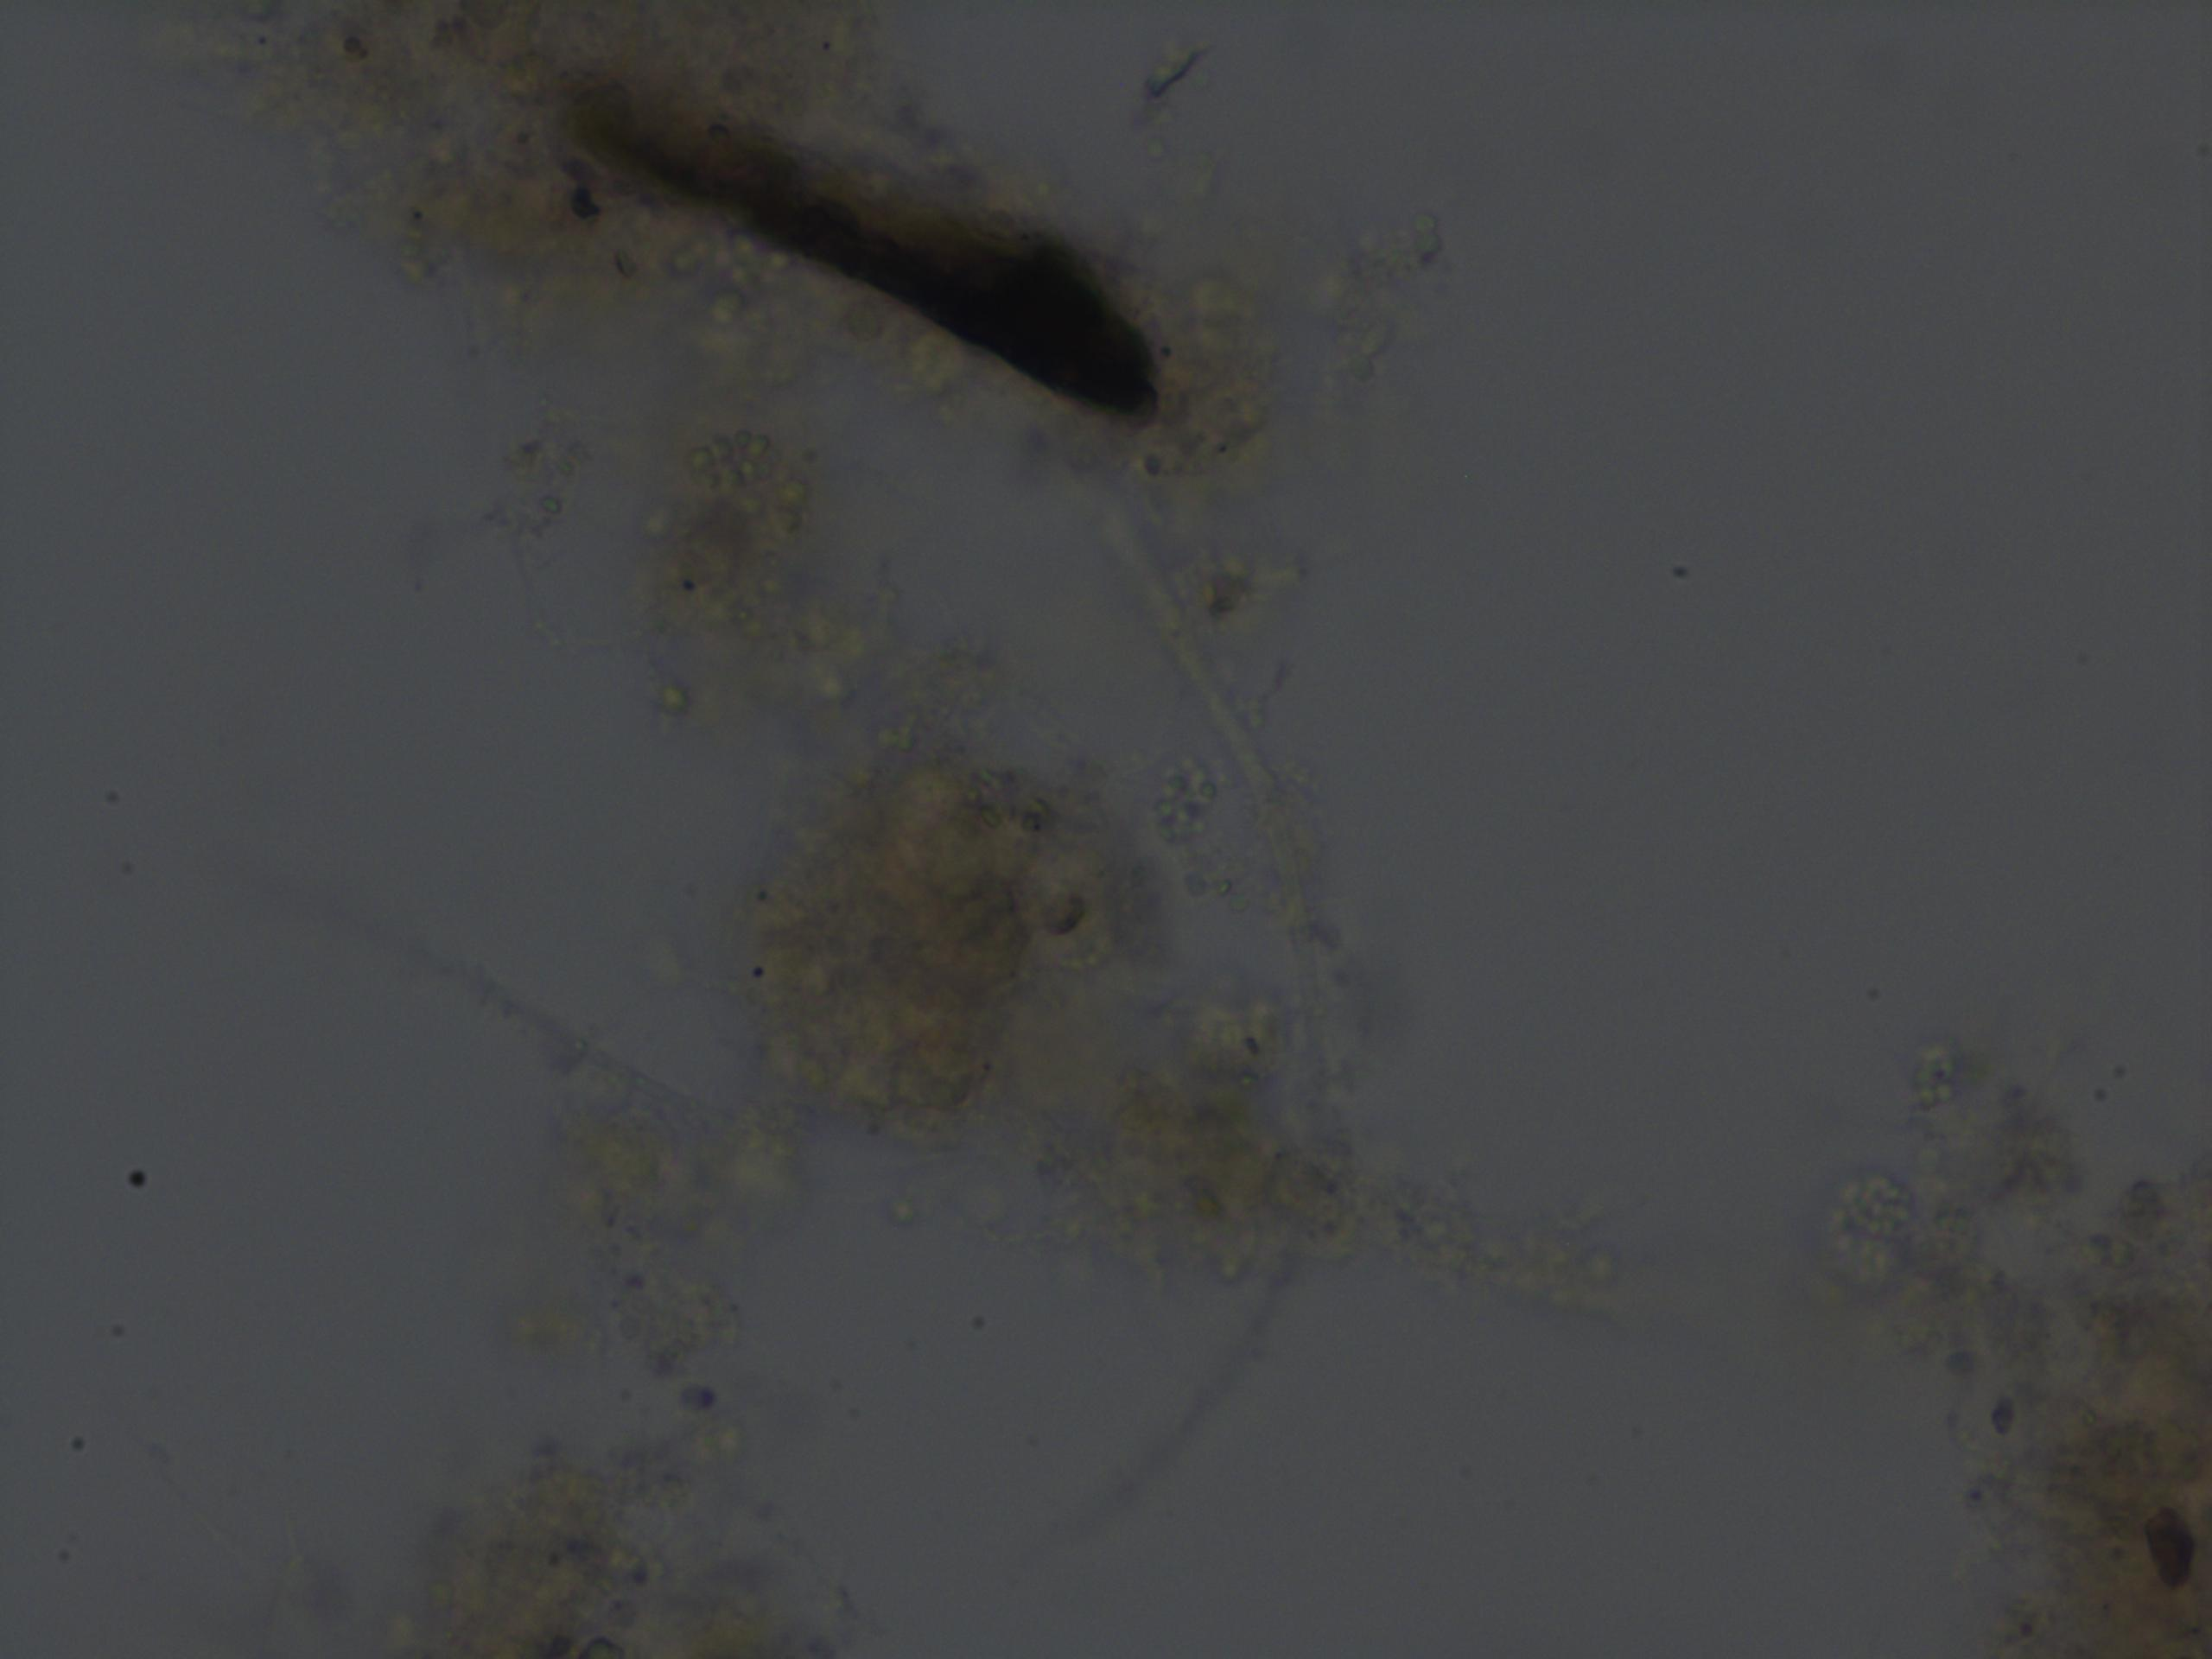filament: (1066, 511, 1367, 1584)
